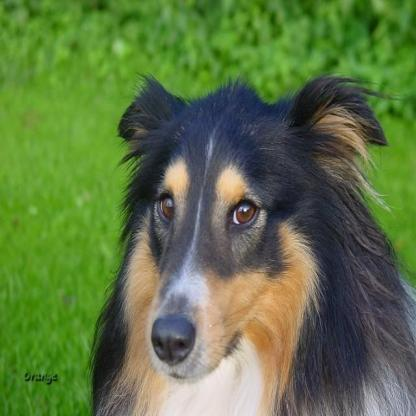collie: (87, 71, 414, 414)
